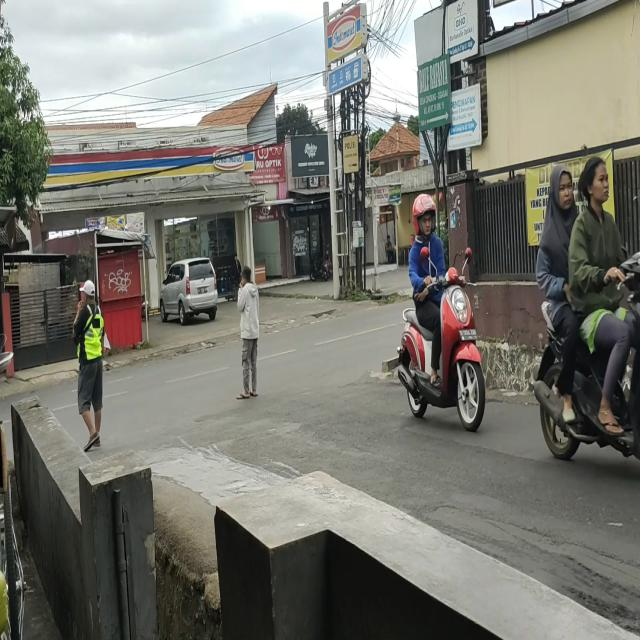helmet: (414, 196, 438, 238)
no-helmet: (582, 155, 608, 205), (550, 163, 574, 211)
